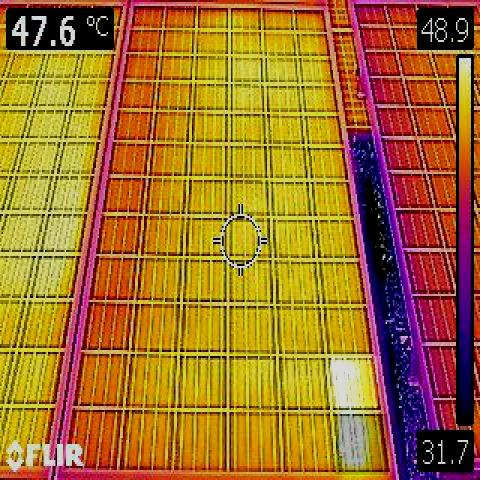fault: (336, 414, 388, 475), (330, 356, 378, 408)
